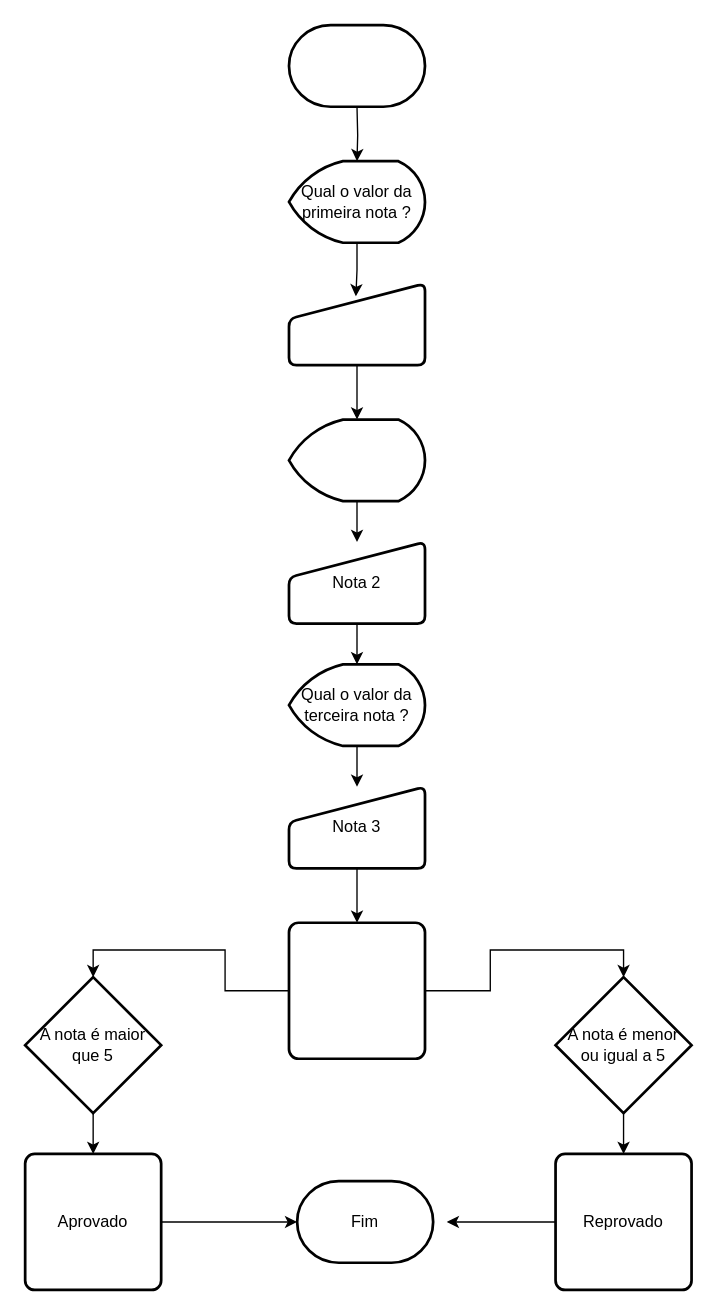
The diagram is 715 pixels wide and 1314 high, and some of its shapes have lost their labels. The shapes that lost their labels are listed below. From the top down, each one's centre as x and y in pixels, then its label:
pixel 356 65: Início
pixel 356 324: Nota 1
pixel 356 460: Qual o valor da segunda nota ?
pixel 356 990: Nota 1+Nota 2+Nota 3 divido por 3
